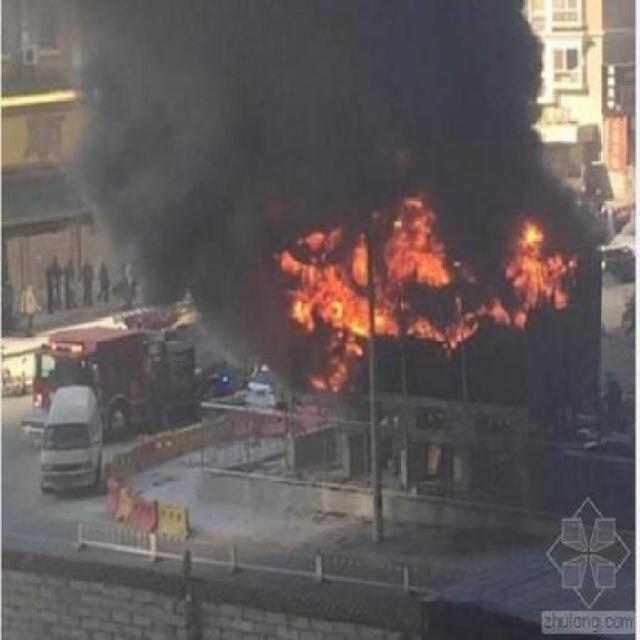Fire: (248, 189, 586, 396)
Smoke: (67, 0, 557, 193), (103, 200, 250, 364)
